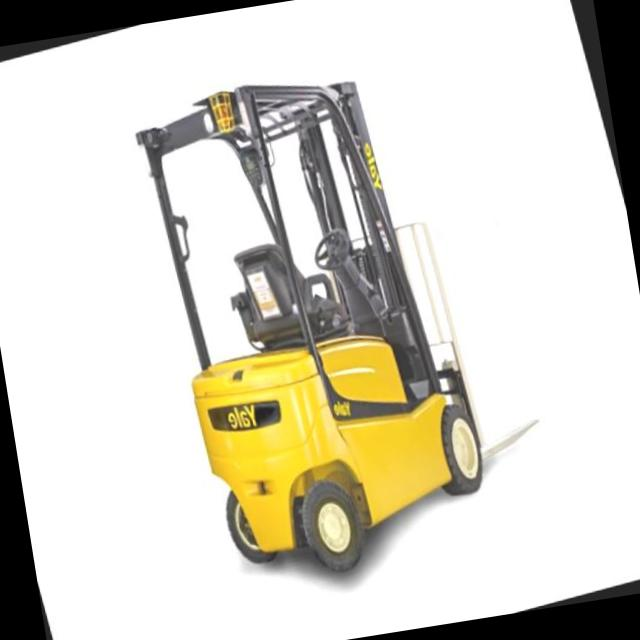forklift: (96, 14, 541, 640)
